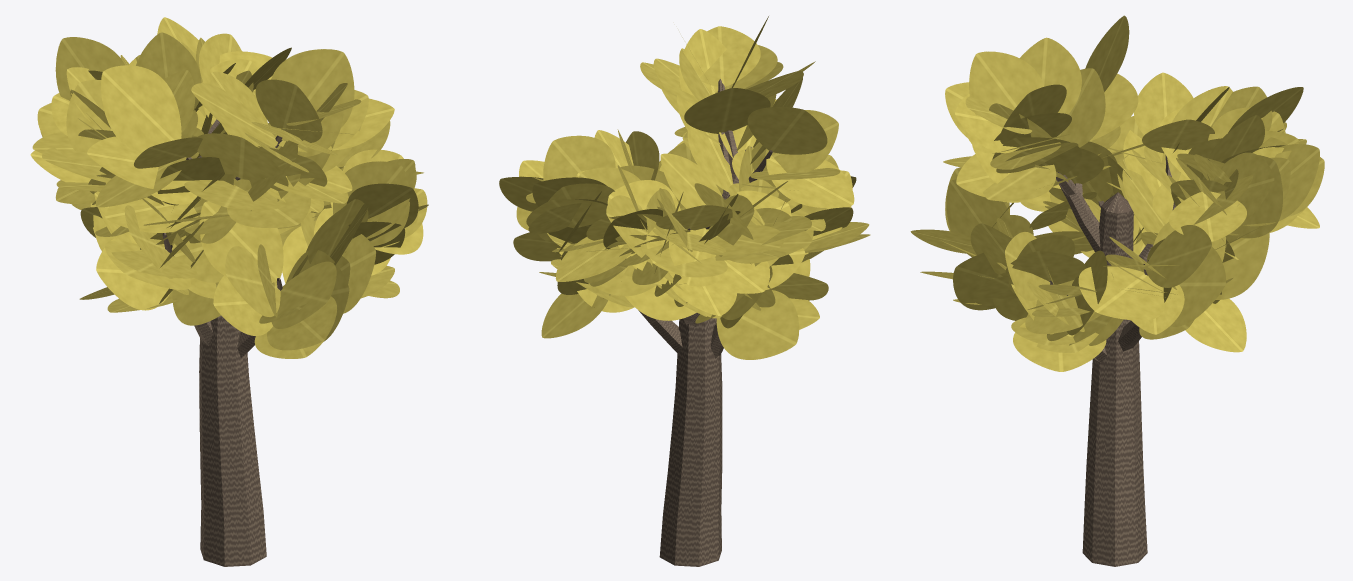
Rendered from 은행나무_01.fbx.
3 views of the same model, side by side, from view 1: azimuth 30°, elevation 25°; view 2: azimuth 150°, elevation 25°; view 3: azimuth 270°, elevation 25° (orthographic). The views are drawn at different scales.
Parts seen in each view (by area): view 1: 은행나무_01; view 2: 은행나무_01; view 3: 은행나무_01.
Boxes of the visible parts, <box> form: 은행나무_01: <box>30,17,428,566</box>; 은행나무_01: <box>499,16,870,566</box>; 은행나무_01: <box>910,15,1324,566</box>.
Size of the model in its own units: 7344 by 10260 by 7916.
Materials: 2 (2 with a texture image).
